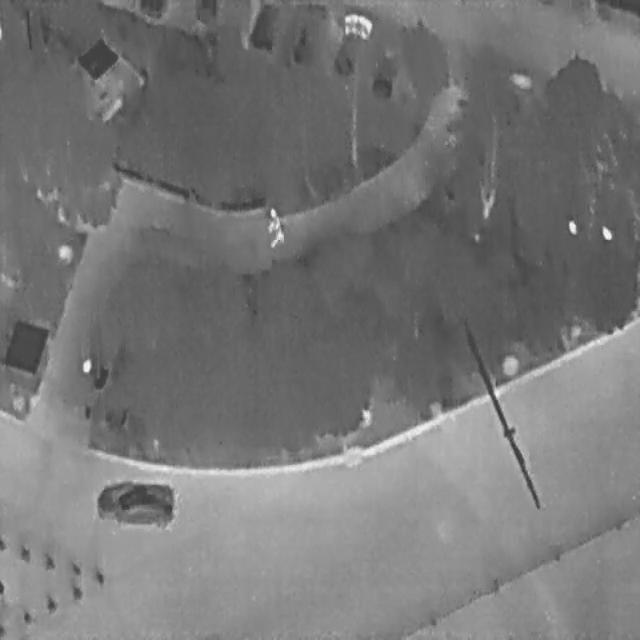Car: (93, 480, 176, 531), (325, 8, 376, 86), (364, 27, 411, 102), (286, 0, 327, 66), (245, 0, 281, 52), (192, 0, 219, 26), (137, 0, 165, 19)
Person: (266, 206, 281, 232), (268, 224, 284, 248)
